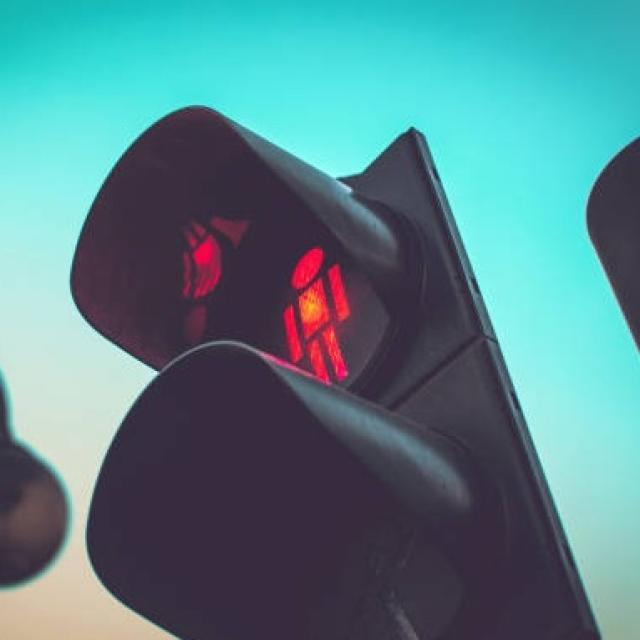red-crossing: (242, 230, 370, 392)
